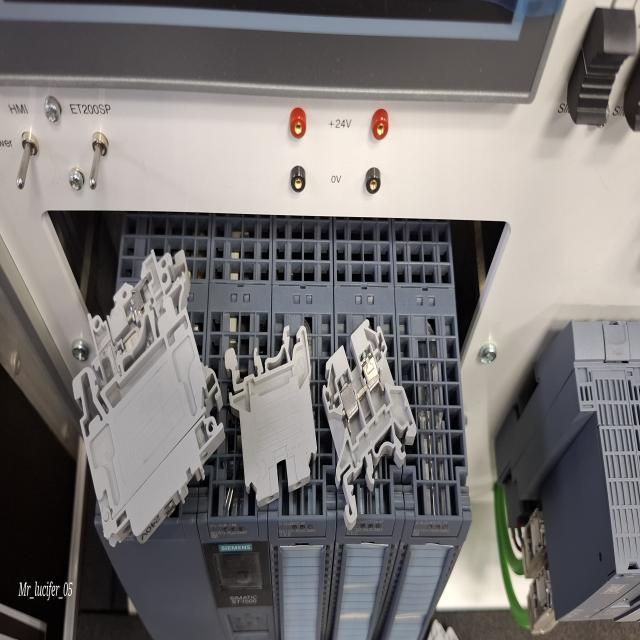Inverted: (212, 316, 324, 537)
Pass: (310, 320, 432, 528)
